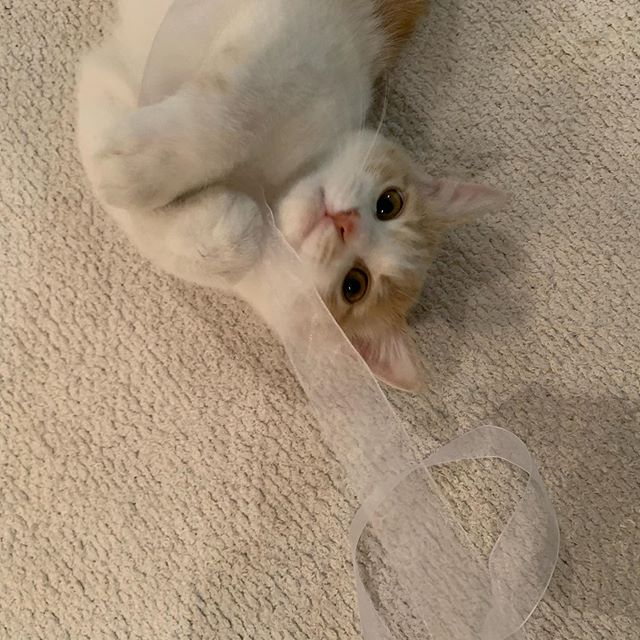cat: (269, 125, 515, 397)
